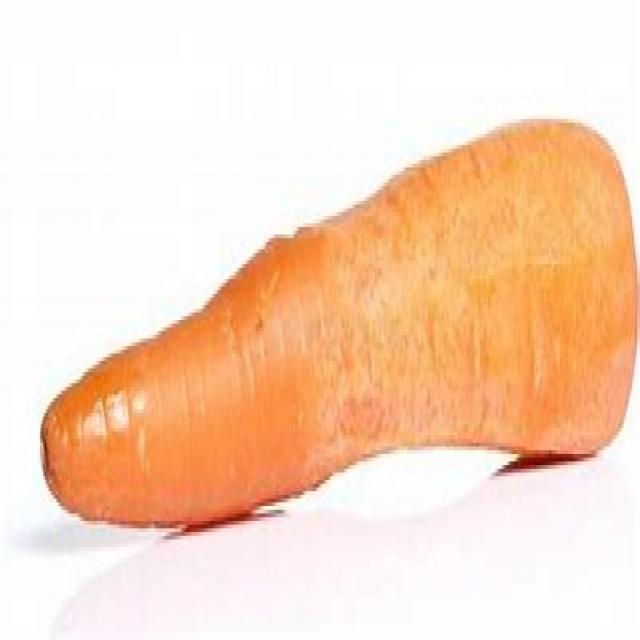Carrot: (40, 110, 638, 540)
